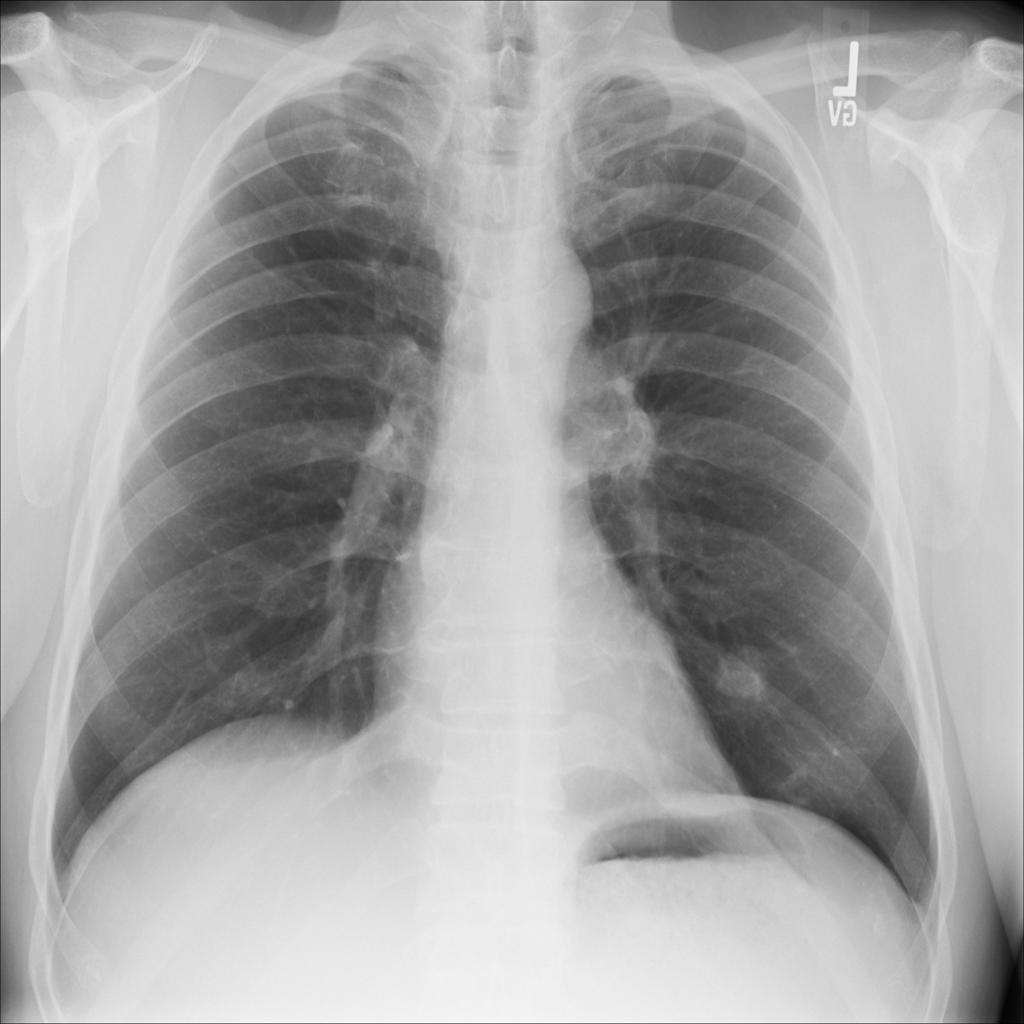nodule: (691, 622, 796, 725)
